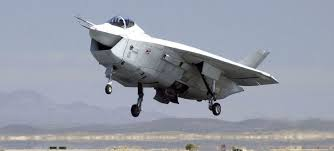fighter: (72, 14, 282, 120)
